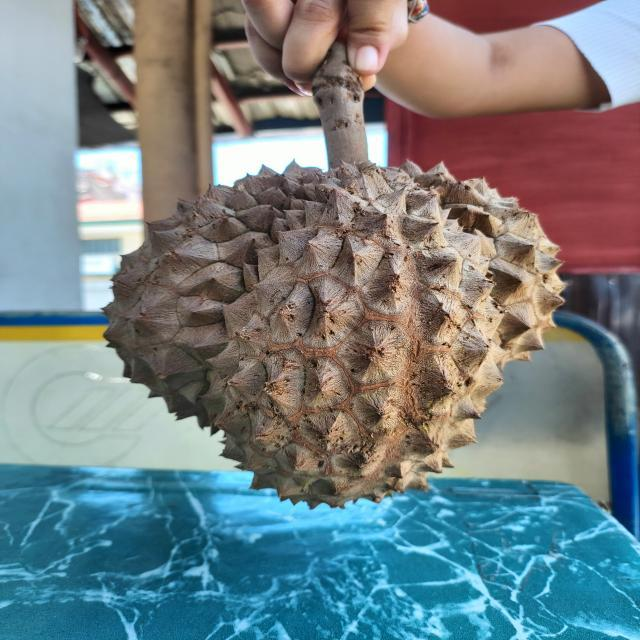mature: (104, 162, 569, 511)
